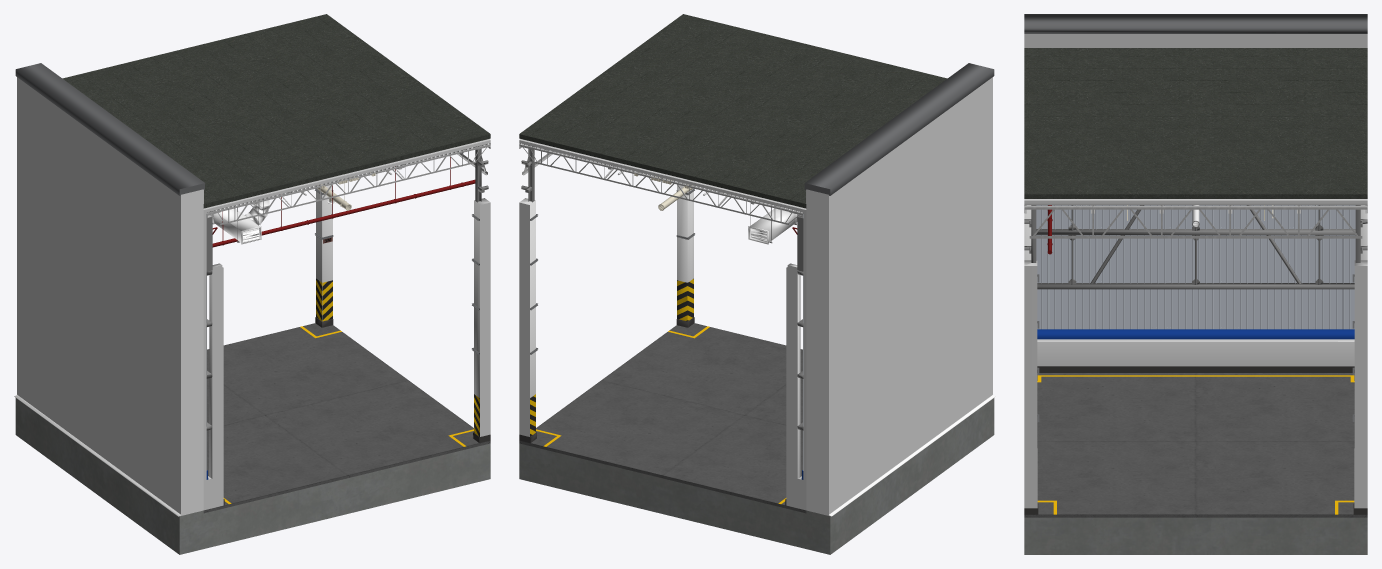
The model's file is hall_straight.glb.
3 views of the same model, side by side, from view 1: azimuth 30°, elevation 25°; view 2: azimuth 150°, elevation 25°; view 3: azimuth 270°, elevation 25° (orthographic). The views are drawn at different scales.
Visible parts, largest first — view 1: sm_base_a01_mesh_00; view 2: sm_base_a01_mesh_00; view 3: sm_base_a01_mesh_00.
Part boxes in pixels (left/top/right/bottom): sm_base_a01_mesh_00: left=14, top=14, right=490, bottom=554; sm_base_a01_mesh_00: left=519, top=14, right=995, bottom=554; sm_base_a01_mesh_00: left=1024, top=14, right=1367, bottom=554.
Size of the model in its own units: 11 by 12.3 by 10.
30 materials, 10 textured.
